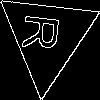R: (22, 12, 67, 53)
